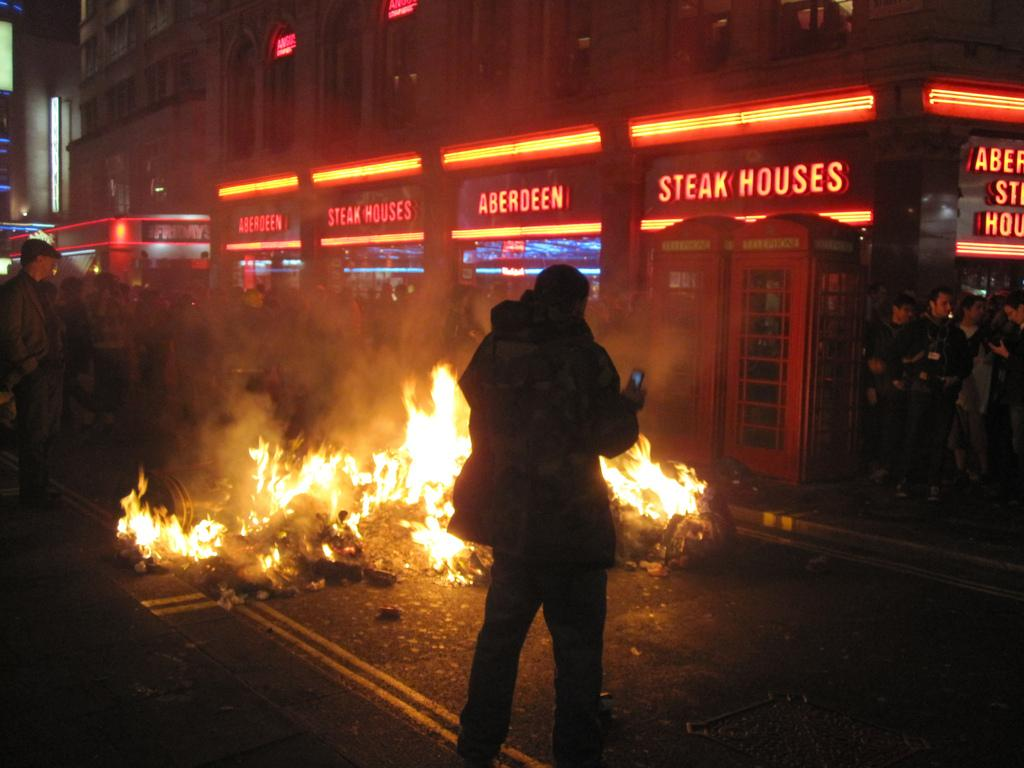fire: (402, 374, 462, 570), (250, 440, 372, 534), (612, 442, 704, 528), (124, 496, 226, 568)
